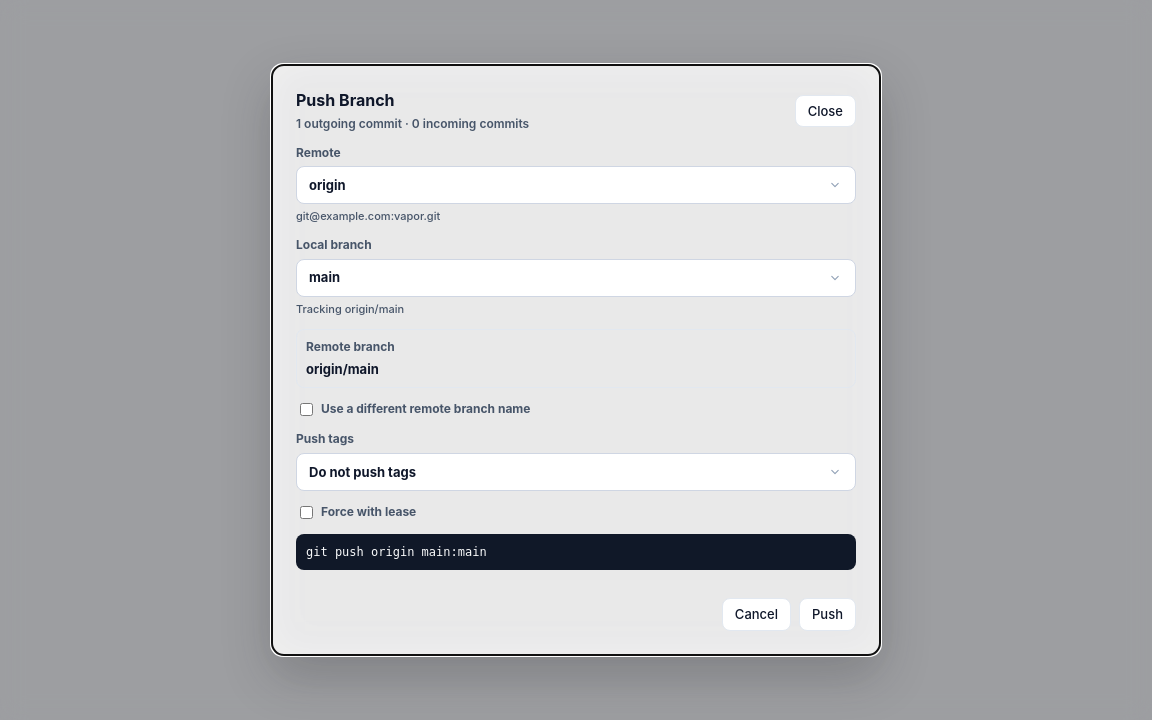
PushDialog › allows an advanced custom target branch when explicitly enabled
Click the checkbox labelled "Use a different remote branch name" at (306, 409), box x1=300 y1=403 x2=313 y2=416
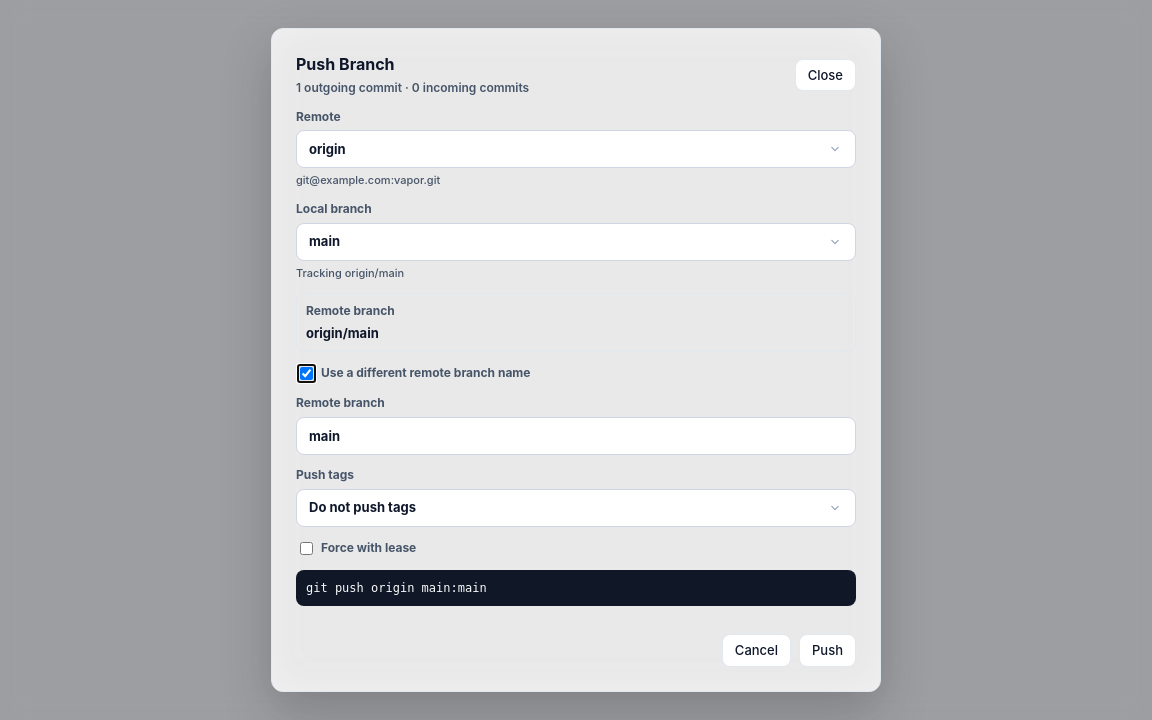
Replace the text in the field labelled "Remote branch" with "release/main" at (576, 436), box x1=296 y1=417 x2=856 y2=455
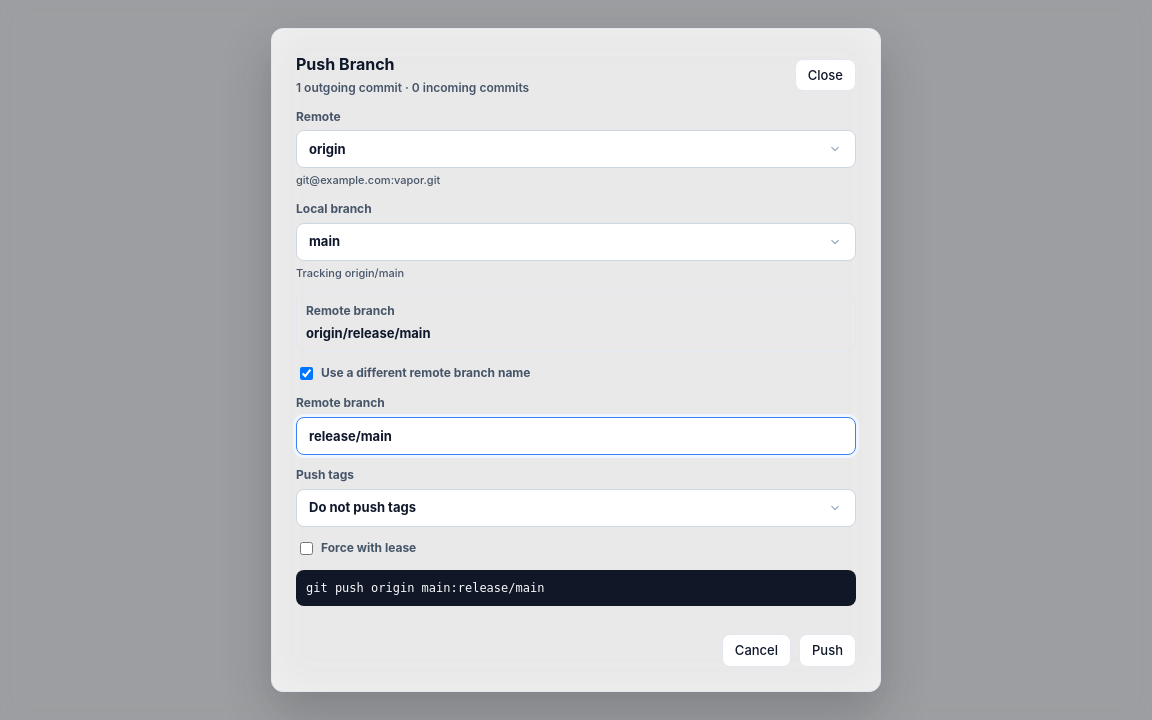
Expected: the text "git push origin main:release/main" is shown, x1=296 y1=570 x2=856 y2=606
